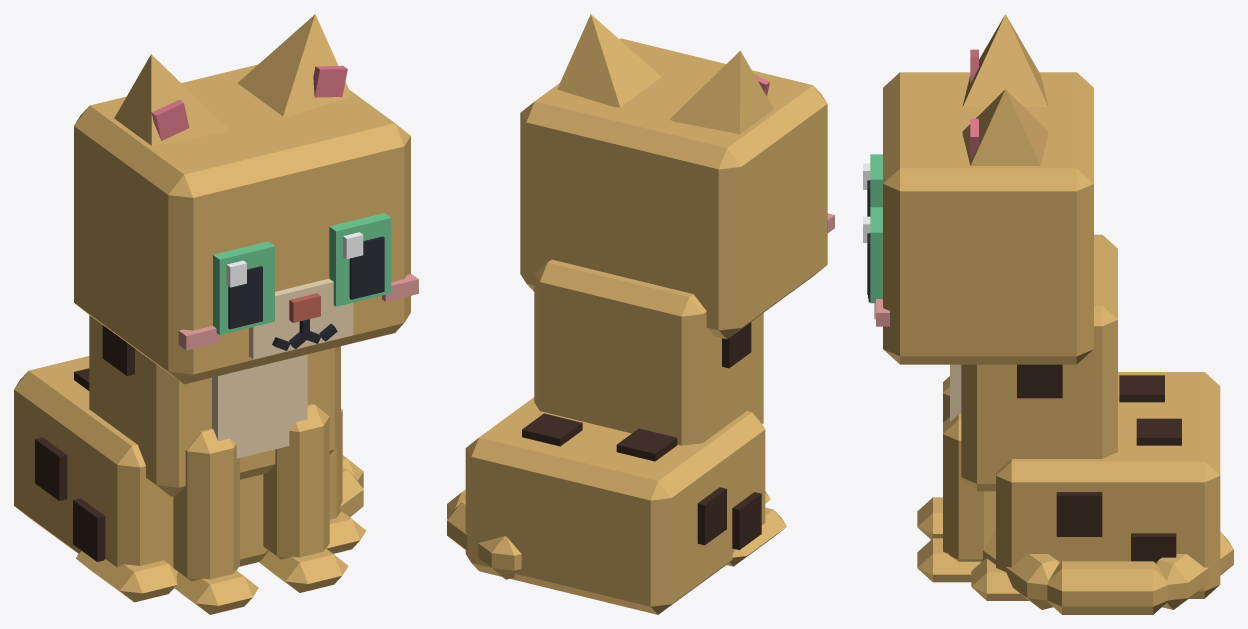
The model's file is CatCafe_Cat_Bengal_Sit.glb.
3 views of the same model, side by side, from view 1: azimuth 30°, elevation 25°; view 2: azimuth 150°, elevation 25°; view 3: azimuth 270°, elevation 25° (orthographic). The views are drawn at different scales.
Parts seen in each view (by area): view 1: CatCafe_Cat_Bengal_Sit_Head, CatCafe_Cat_Bengal_Sit_Body, CatCafe_Cat_Bengal_Sit_LegF2, CatCafe_Cat_Bengal_Sit_LegF1, CatCafe_Cat_Bengal_Sit_EarL, CatCafe_Cat_Bengal_Sit_EarR, CatCafe_Cat_Bengal_Sit_Eye2, CatCafe_Cat_Bengal_Sit_Eye1, CatCafe_Cat_Bengal_Sit_Tail; view 2: CatCafe_Cat_Bengal_Sit_Body, CatCafe_Cat_Bengal_Sit_Head, CatCafe_Cat_Bengal_Sit_EarL, CatCafe_Cat_Bengal_Sit_EarR, CatCafe_Cat_Bengal_Sit_Tail; view 3: CatCafe_Cat_Bengal_Sit_Head, CatCafe_Cat_Bengal_Sit_Body, CatCafe_Cat_Bengal_Sit_Tail, CatCafe_Cat_Bengal_Sit_LegF1, CatCafe_Cat_Bengal_Sit_EarL, CatCafe_Cat_Bengal_Sit_EarR, CatCafe_Cat_Bengal_Sit_Eye1, CatCafe_Cat_Bengal_Sit_LegF2, CatCafe_Cat_Bengal_Sit_Eye2.
Part boxes in pixels (<box>): CatCafe_Cat_Bengal_Sit_Head: <box>74,64,418,384</box>; CatCafe_Cat_Bengal_Sit_Body: <box>14,315,366,602</box>; CatCafe_Cat_Bengal_Sit_LegF2: <box>173,428,258,614</box>; CatCafe_Cat_Bengal_Sit_LegF1: <box>259,404,348,592</box>; CatCafe_Cat_Bengal_Sit_EarL: <box>237,14,352,116</box>; CatCafe_Cat_Bengal_Sit_EarR: <box>114,54,228,145</box>; CatCafe_Cat_Bengal_Sit_Eye2: <box>213,241,274,334</box>; CatCafe_Cat_Bengal_Sit_Eye1: <box>329,213,391,306</box>; CatCafe_Cat_Bengal_Sit_Tail: <box>329,455,363,519</box>; CatCafe_Cat_Bengal_Sit_Body: <box>465,259,786,614</box>; CatCafe_Cat_Bengal_Sit_Head: <box>520,38,834,339</box>; CatCafe_Cat_Bengal_Sit_EarL: <box>557,14,661,107</box>; CatCafe_Cat_Bengal_Sit_EarR: <box>669,50,773,133</box>; CatCafe_Cat_Bengal_Sit_Tail: <box>447,489,521,579</box>; CatCafe_Cat_Bengal_Sit_Head: <box>868,72,1093,364</box>; CatCafe_Cat_Bengal_Sit_Body: <box>950,234,1220,600</box>; CatCafe_Cat_Bengal_Sit_Tail: <box>981,531,1233,614</box>; CatCafe_Cat_Bengal_Sit_LegF1: <box>917,414,995,582</box>; CatCafe_Cat_Bengal_Sit_EarL: <box>962,89,1048,165</box>; CatCafe_Cat_Bengal_Sit_EarR: <box>962,14,1048,106</box>; CatCafe_Cat_Bengal_Sit_Eye1: <box>863,207,882,303</box>; CatCafe_Cat_Bengal_Sit_LegF2: <box>917,376,949,539</box>; CatCafe_Cat_Bengal_Sit_Eye2: <box>863,154,882,216</box>.
Bounding box in the file's own units: 1.02 × 1.85 × 1.24.
1 material, 1 textured.
